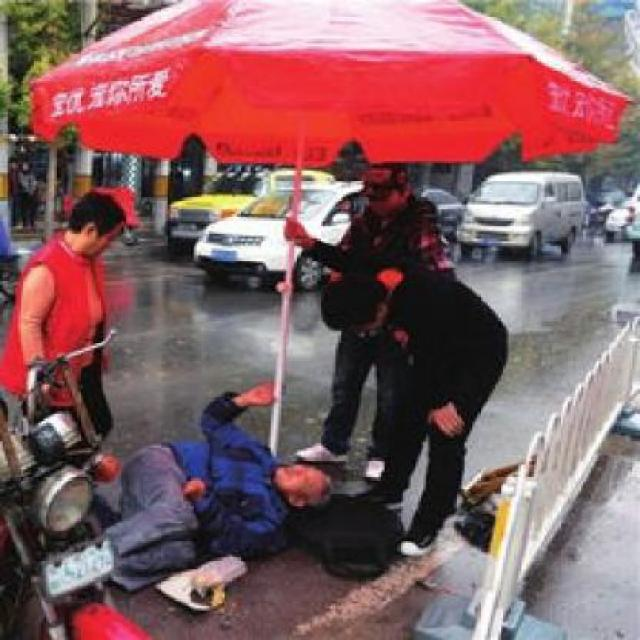fall: (93, 375, 342, 603)
